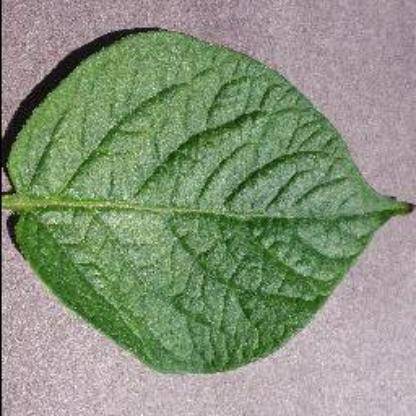Healthy-plant: (3, 21, 415, 385)
